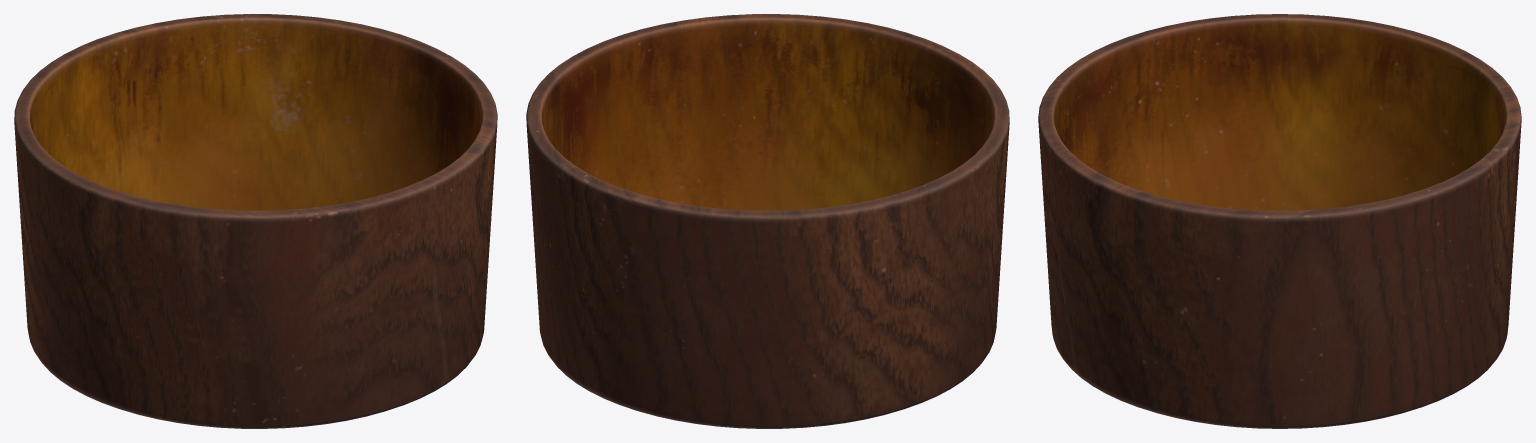
The model's file is SM_WoodenBowl_B.fbx.
3 views of the same model, side by side, from view 1: azimuth 30°, elevation 25°; view 2: azimuth 150°, elevation 25°; view 3: azimuth 270°, elevation 25° (orthographic).
Parts seen in each view (by area): view 1: SM_WoodenBowl_B; view 2: SM_WoodenBowl_B; view 3: SM_WoodenBowl_B.
Boxes of the visible parts, <box> form: SM_WoodenBowl_B: <box>14,14,497,428</box>; SM_WoodenBowl_B: <box>526,14,1009,428</box>; SM_WoodenBowl_B: <box>1038,14,1521,428</box>.
Bounding box in the file's own units: 17.65 × 8.93 × 17.65.
1 material, 1 textured.
